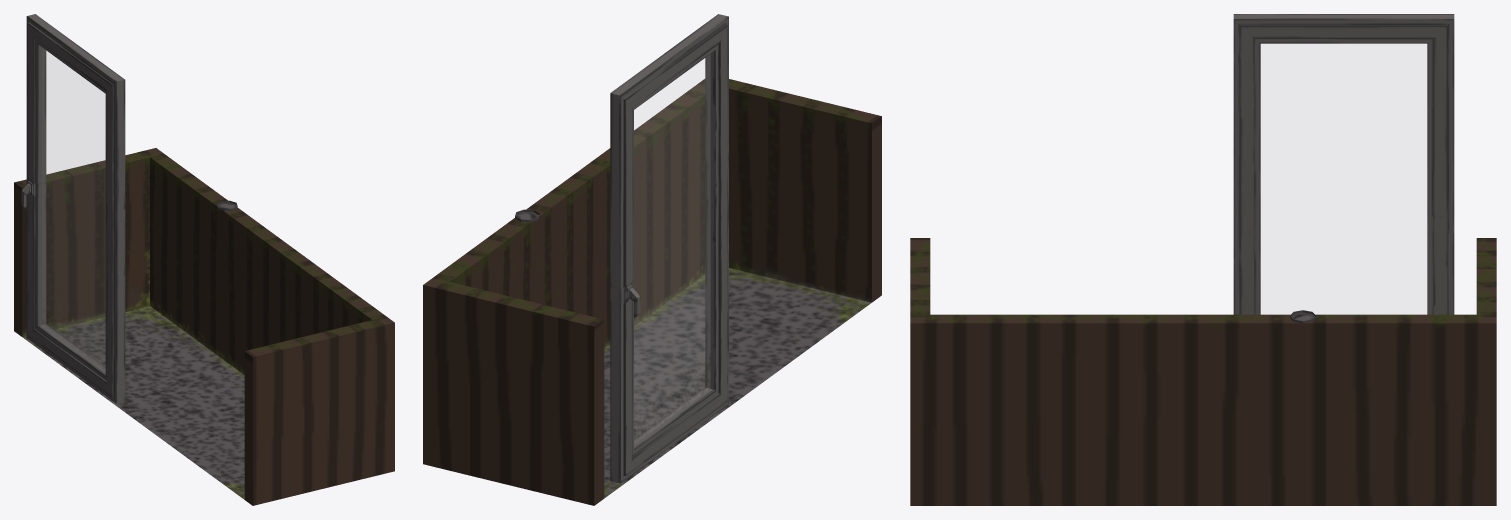
The model's file is aken-rodu.glb.
3 renders of one model, left to right at view 1: azimuth 30°, elevation 25°; view 2: azimuth 150°, elevation 25°; view 3: azimuth 270°, elevation 25°, orthographic. The views are drawn at different scales.
Visible parts, largest first — view 1: Balcony, WindowPane, WindowFrame; view 2: Balcony, WindowPane, WindowFrame; view 3: Balcony, WindowPane, WindowFrame.
Boxes of the visible parts, x1,y1,x2,y2 form: Balcony: [14, 148, 394, 505]; WindowPane: [42, 48, 104, 369]; WindowFrame: [21, 14, 125, 403]; Balcony: [423, 79, 881, 505]; WindowPane: [634, 55, 709, 443]; WindowFrame: [610, 14, 728, 483]; Balcony: [910, 238, 1496, 505]; WindowPane: [1261, 44, 1426, 313]; WindowFrame: [1233, 14, 1454, 314].
Bounding box in the file's own units: 1.03 × 2.04 × 2.69.
Materials: 3 (3 with a texture image).
